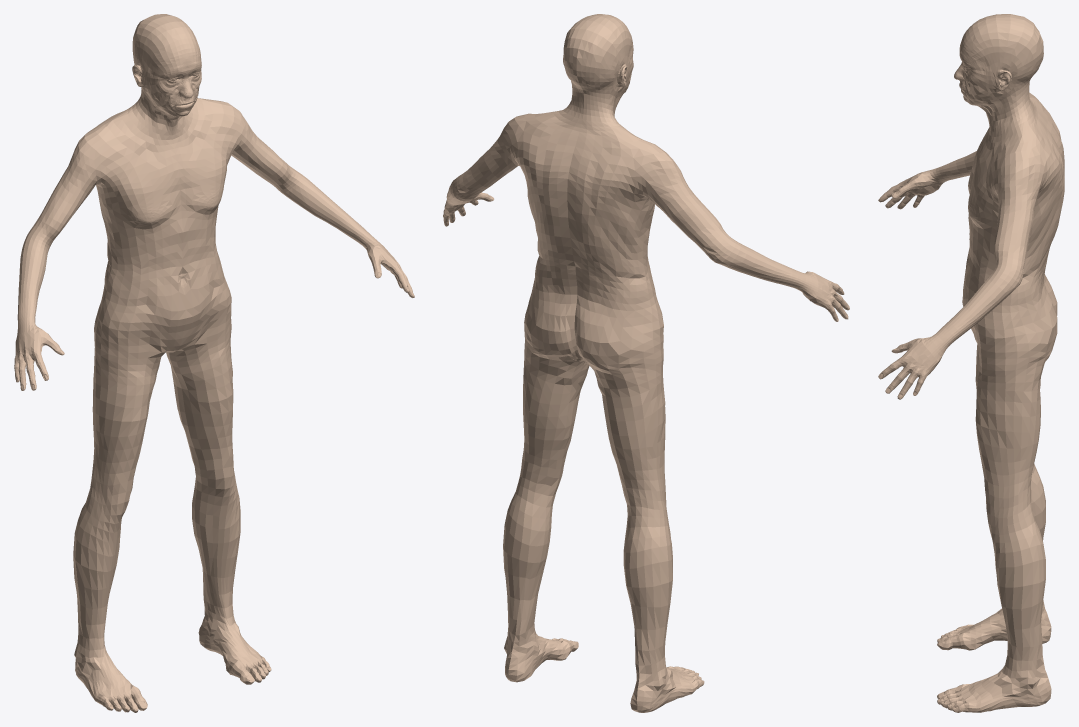
Rendered from male-elder-lean-strong.glb.
3 renders of one model, left to right at view 1: azimuth 30°, elevation 25°; view 2: azimuth 150°, elevation 25°; view 3: azimuth 270°, elevation 25°, orthographic.
Parts seen in each view (by area): view 1: world; view 2: world; view 3: world.
Boxes of the visible parts, x1,y1,x2,y2 form: world: (14, 14, 414, 712); world: (443, 14, 849, 712); world: (878, 14, 1064, 712).
Size of the model in its own units: 1.2 by 1.92 by 0.4933.
